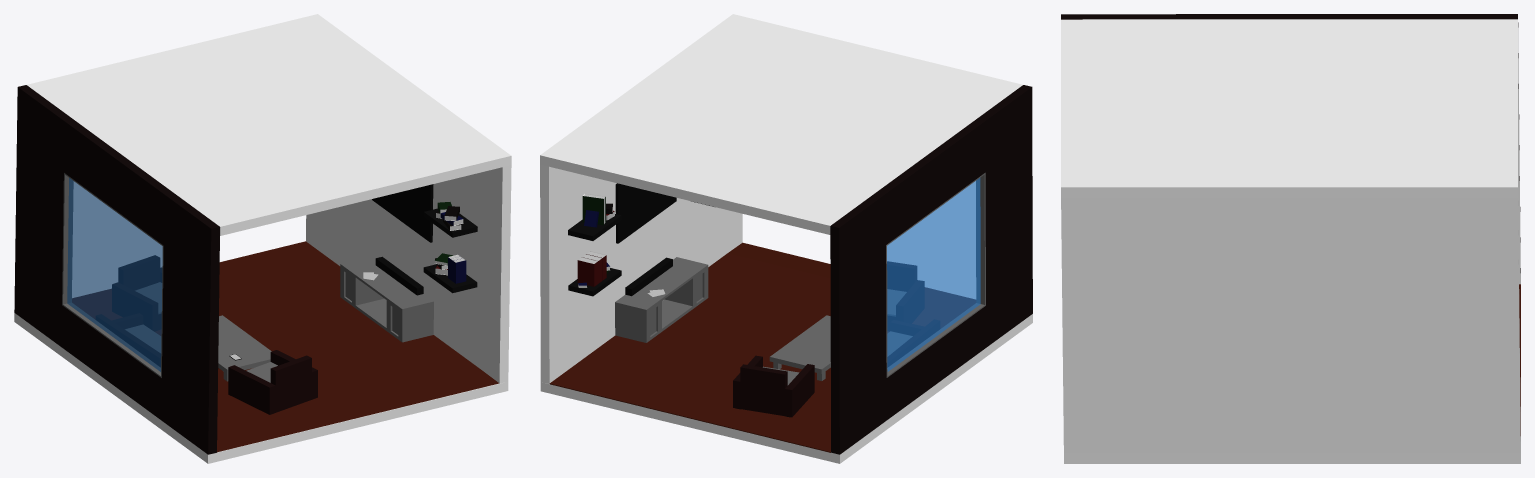
The model's file is opaque.glb.
3 views of the same model, side by side, from view 1: azimuth 30°, elevation 25°; view 2: azimuth 150°, elevation 25°; view 3: azimuth 270°, elevation 25° (orthographic). The views are drawn at different scales.
Parts seen in each view (by area): view 1: object 2, Cube (×12), object 1, object 189, object 186, object 188; view 2: object 2, Cube (×13), object 1, object 189, object 186, object 188; view 3: object 189, object 2, object 188, object 1.
Boxes of the visible parts, x1,y1,x2,y2 form: object 2: (27, 14, 511, 235); Cube (×12): (62, 173, 498, 452); object 1: (14, 85, 219, 454); object 189: (306, 165, 511, 383); object 186: (67, 178, 162, 371); object 188: (14, 313, 508, 463); object 2: (540, 14, 1022, 234); Cube (×13): (549, 172, 985, 452); object 1: (830, 85, 1032, 454); object 189: (540, 164, 742, 383); object 186: (887, 178, 980, 371); object 188: (540, 314, 1032, 463); object 189: (1061, 198, 1520, 452); object 2: (1061, 19, 1517, 197); object 188: (1064, 453, 1520, 463); object 1: (1061, 14, 1520, 284).
Bounding box in the file's own units: 17.11 × 12.77 × 19.12.
